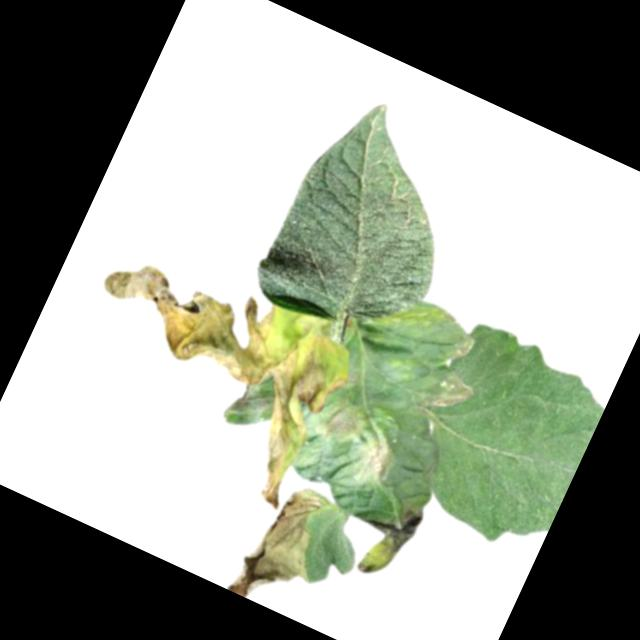Late_blight: (47, 234, 367, 516), (227, 473, 346, 618), (345, 492, 426, 588), (346, 433, 401, 494), (316, 395, 372, 450), (425, 367, 478, 422), (447, 331, 476, 366)
healthy: (246, 82, 494, 360), (393, 315, 617, 563)
